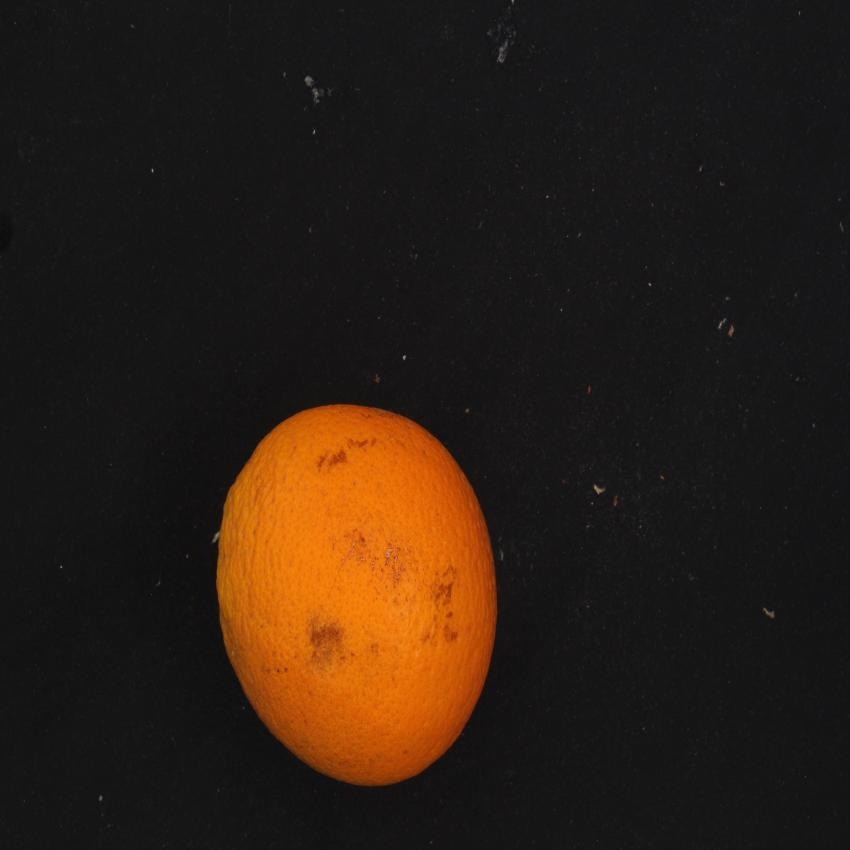Mal estado: (199, 396, 521, 801)
